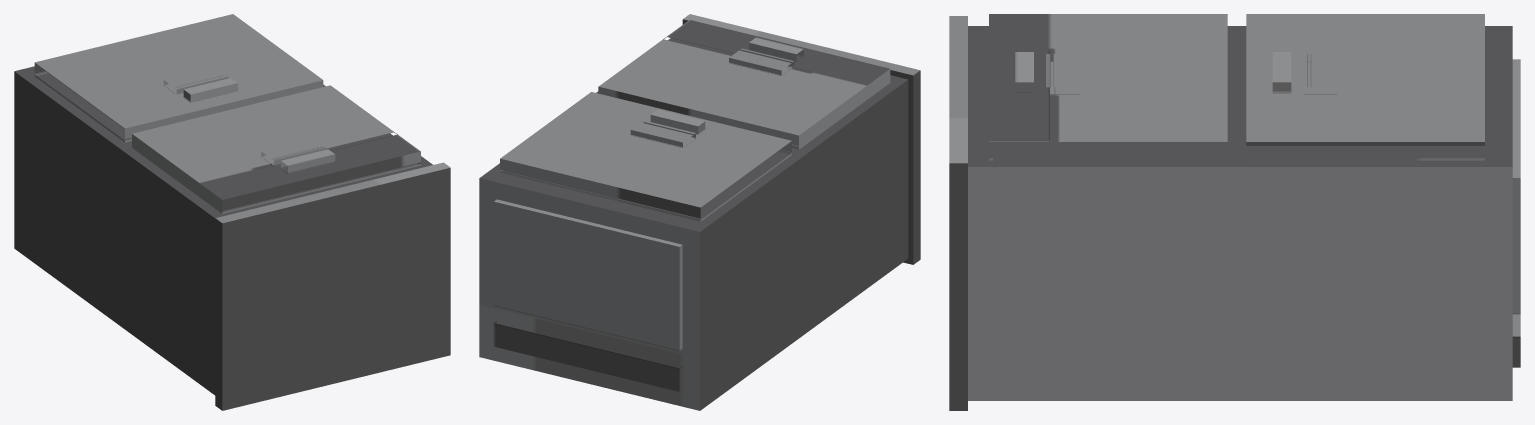
The picture shows the model from 3 angles, left to right: view 1: azimuth 30°, elevation 25°; view 2: azimuth 150°, elevation 25°; view 3: azimuth 270°, elevation 25°; orthographic projection. The views are drawn at different scales.
Bounding box in the file's own units: 0.391 × 0.335 × 0.6415.
